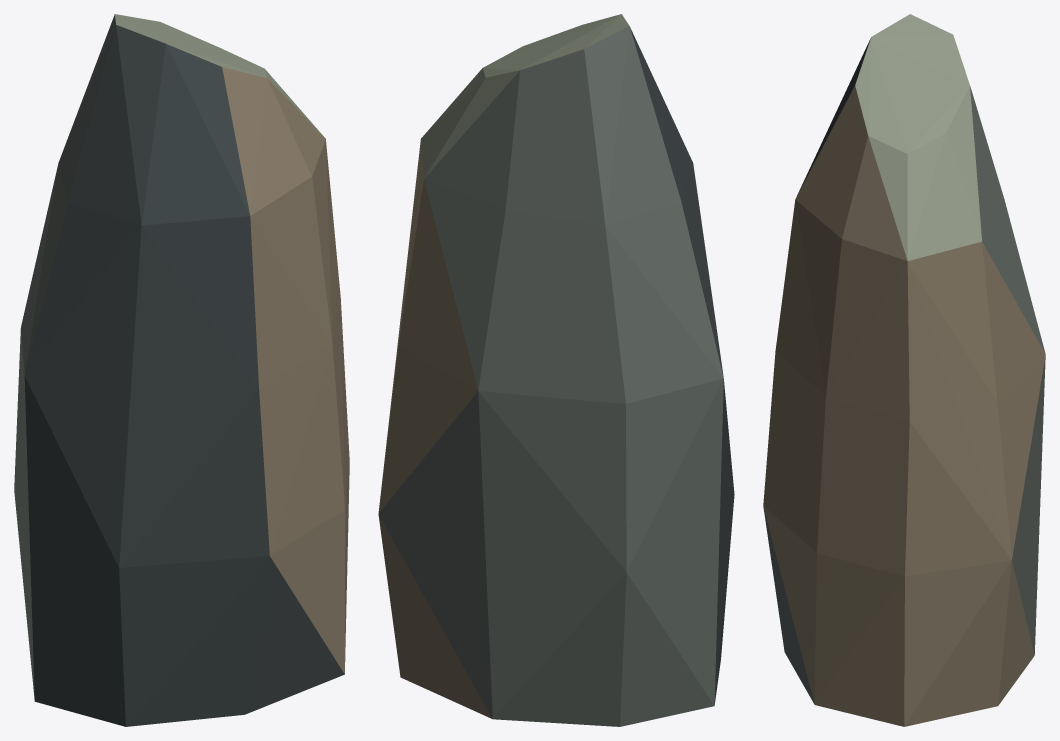
File: TW_ROCK_UPRIGHT_A_LOD0.glb
3 renders of one model, left to right at view 1: azimuth 30°, elevation 25°; view 2: azimuth 150°, elevation 25°; view 3: azimuth 270°, elevation 25°, orthographic. The views are drawn at different scales.
Visible parts, largest first — view 1: TW_ROCK_UPRIGHT_A_LOD0; view 2: TW_ROCK_UPRIGHT_A_LOD0; view 3: TW_ROCK_UPRIGHT_A_LOD0.
Boxes of the visible parts, box(x1,y1,x2,y2) form: TW_ROCK_UPRIGHT_A_LOD0: box(14, 14, 349, 726); TW_ROCK_UPRIGHT_A_LOD0: box(378, 14, 734, 726); TW_ROCK_UPRIGHT_A_LOD0: box(763, 14, 1045, 726).
Size of the model in its own units: 0.8 by 1.55 by 0.65.
Materials: 1 (1 with a texture image).
